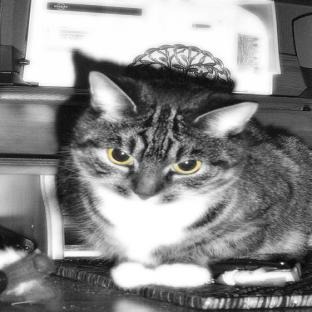Animal: (57, 70, 311, 288)
